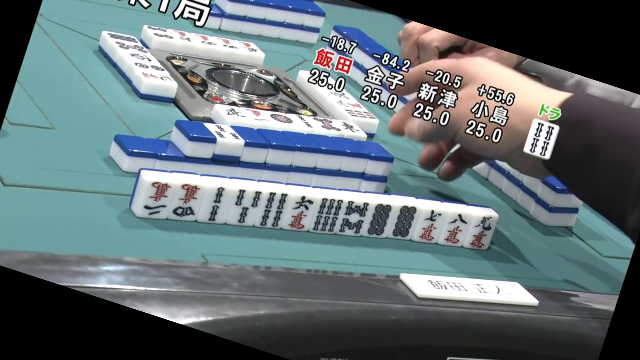Tehai: (131, 165, 498, 258)
